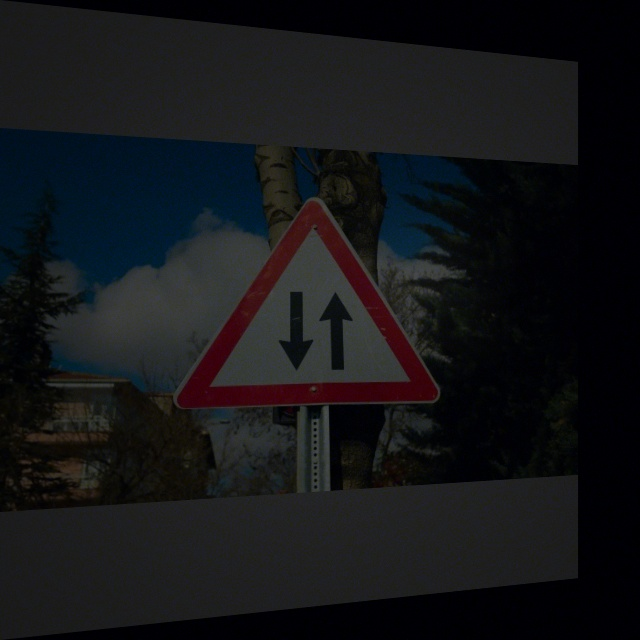Mandatory_Two_Way_Traffic: (174, 191, 440, 415)
